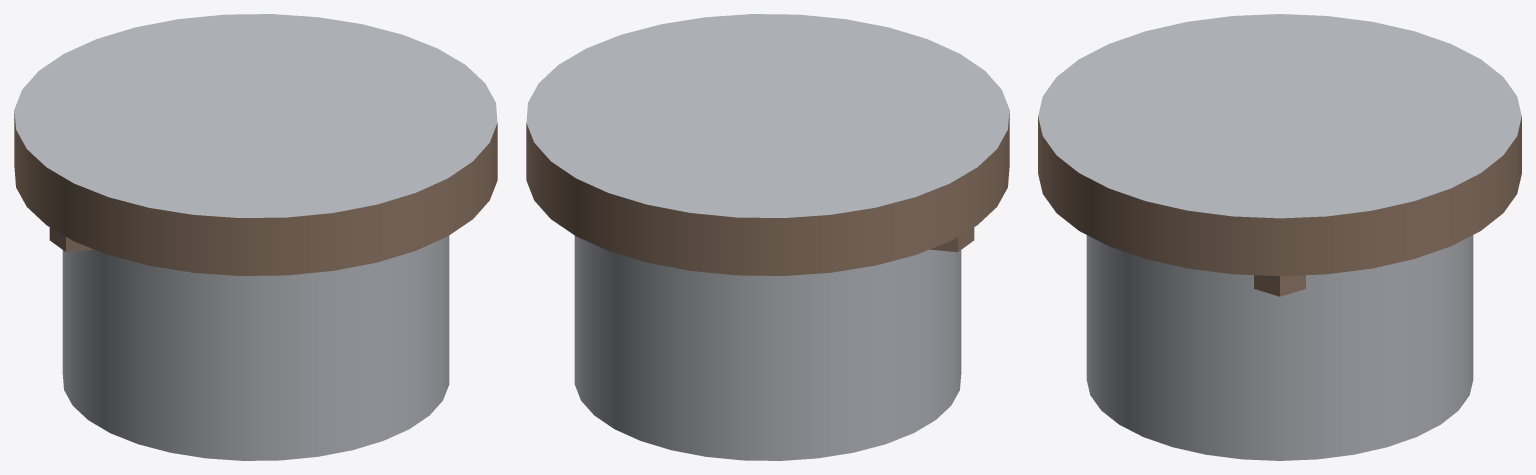
3 renders of one model, left to right at view 1: azimuth 30°, elevation 25°; view 2: azimuth 150°, elevation 25°; view 3: azimuth 270°, elevation 25°, orthographic.
Visible parts, largest first — view 1: ratchet_2-90; view 2: ratchet_2-90; view 3: ratchet_2-90.
Part boxes in pixels (bbox=[...]): ratchet_2-90: bbox=[14, 14, 497, 460]; ratchet_2-90: bbox=[526, 14, 1009, 460]; ratchet_2-90: bbox=[1038, 14, 1521, 460].
Size of the model in its own units: 15 by 9 by 15.
